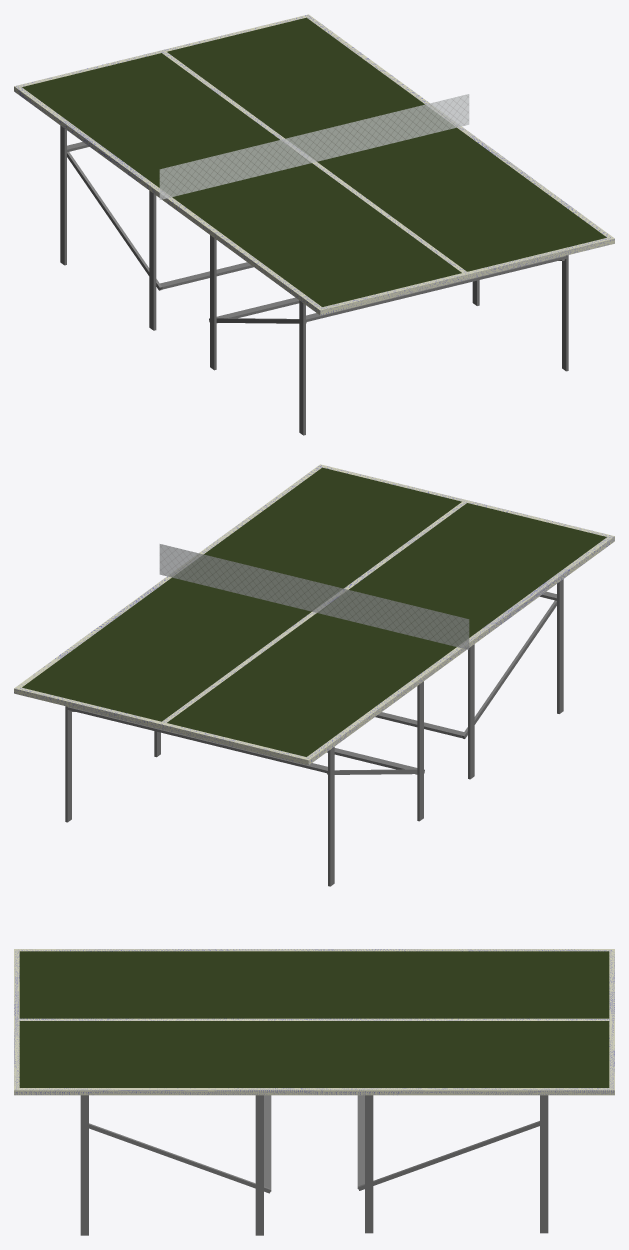
File: table.dae
3 views of the same model, one above another, from view 1: azimuth 30°, elevation 25°; view 2: azimuth 150°, elevation 25°; view 3: azimuth 270°, elevation 25° (orthographic).
Parts seen in each view (by area): view 1: Table_Half (×6), SketchUp, Ping_Pong_Leg (×5), Cross_Brace (×2), Diagonal_Bracing; view 2: Table_Half (×6), SketchUp, Ping_Pong_Leg (×5), Cross_Brace (×3), Diagonal_Bracing; view 3: Table_Half (×6), Ping_Pong_Leg (×4), Diagonal_Bracing (×2), Cross_Brace (×2).
Boxes of the visible parts, x1,y1,x2,y2 form: Table_Half (×6): (14,14,614,315); SketchUp: (159,94,469,199); Ping_Pong_Leg (×5): (60,125,568,435); Cross_Brace (×2): (160,256,566,321); Diagonal_Bracing: (67,152,162,290); Table_Half (×6): (14,464,614,765); SketchUp: (159,544,469,649); Ping_Pong_Leg (×5): (65,579,563,886); Cross_Brace (×3): (67,707,463,774); Diagonal_Bracing: (462,600,556,738); Table_Half (×6): (14,949,614,1095); Ping_Pong_Leg (×4): (80,1095,548,1235); Diagonal_Bracing (×2): (89,1121,539,1193); Cross_Brace (×2): (264,1095,364,1191).
Bounding box in the file's own units: 63 × 108 × 36.
Materials: 6 (1 with a texture image).
